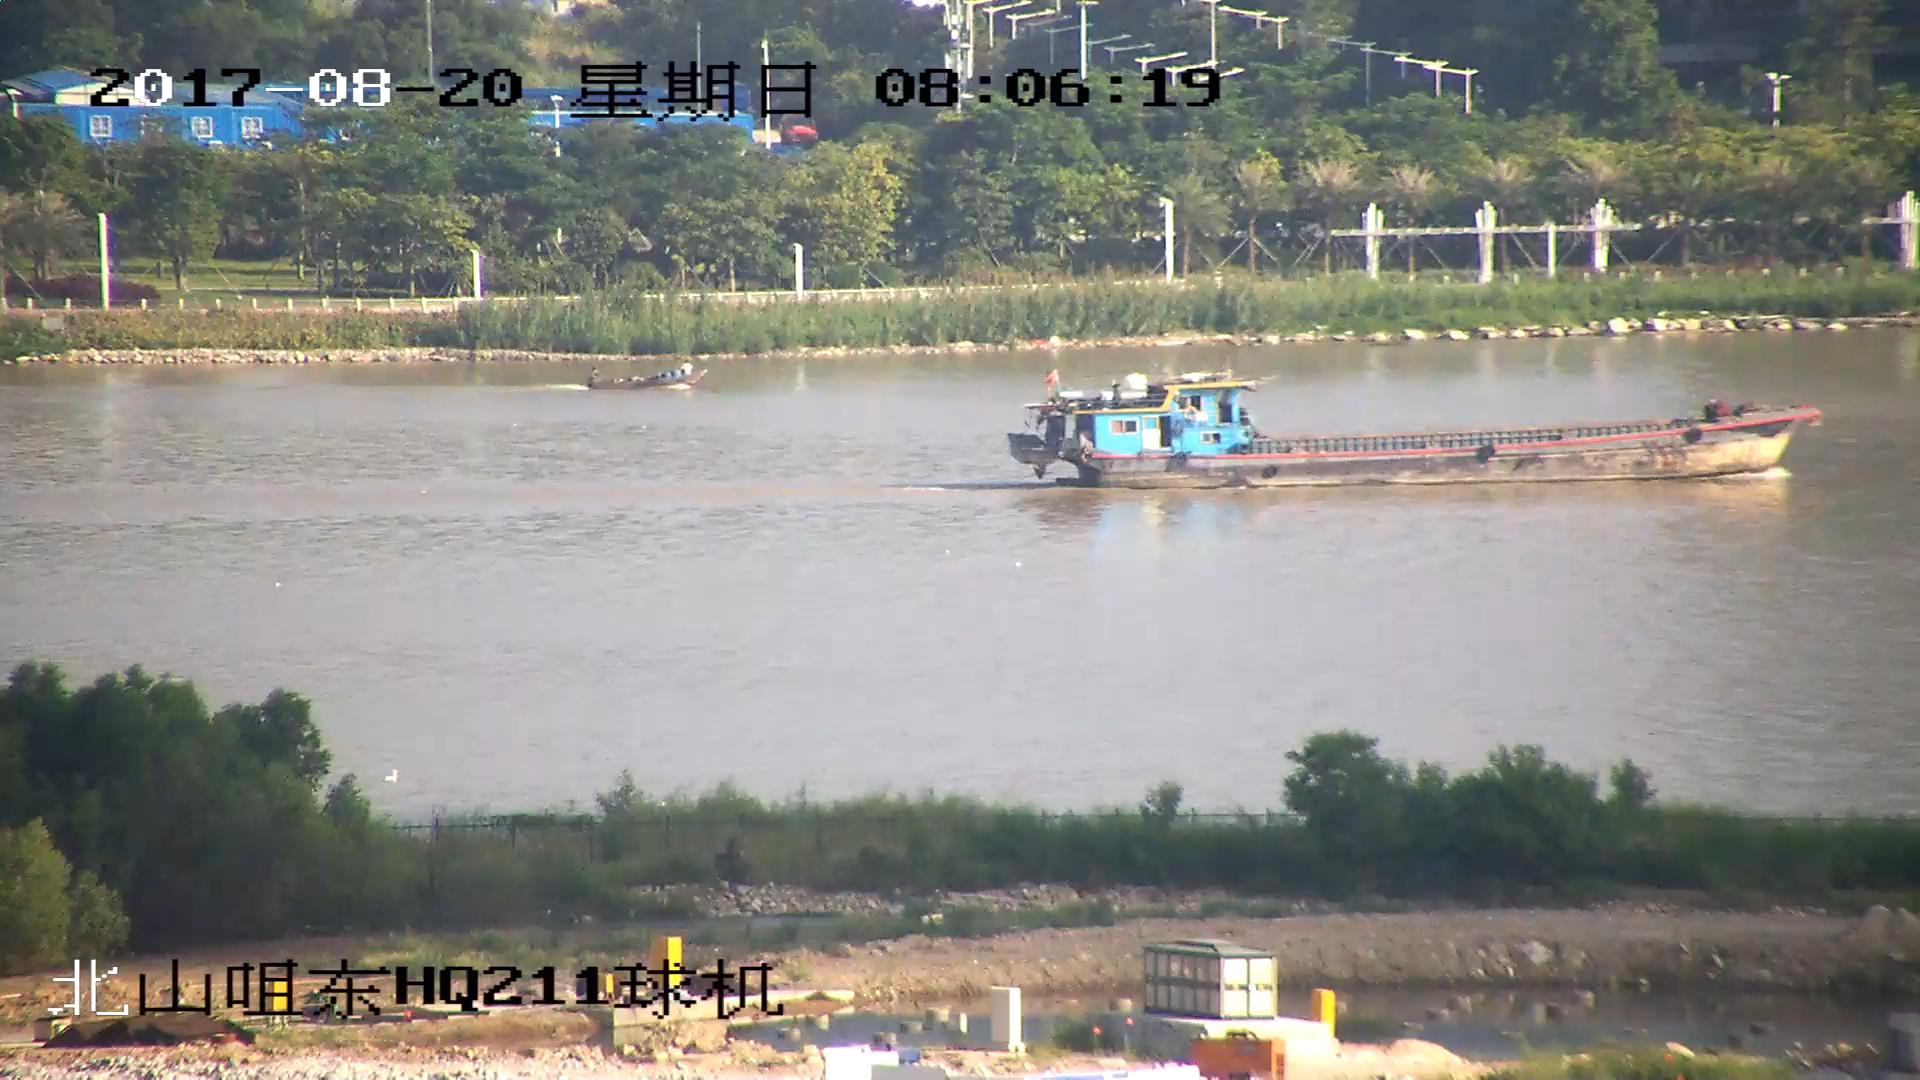fishing boat: (1007, 377, 1820, 490), (588, 364, 703, 393)
